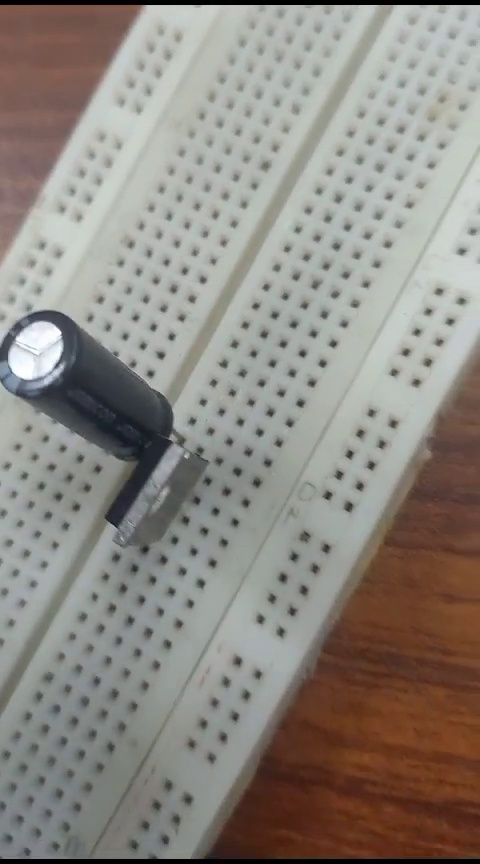capacitor: (4, 296, 179, 460)
voltage regulator: (110, 433, 196, 544)
